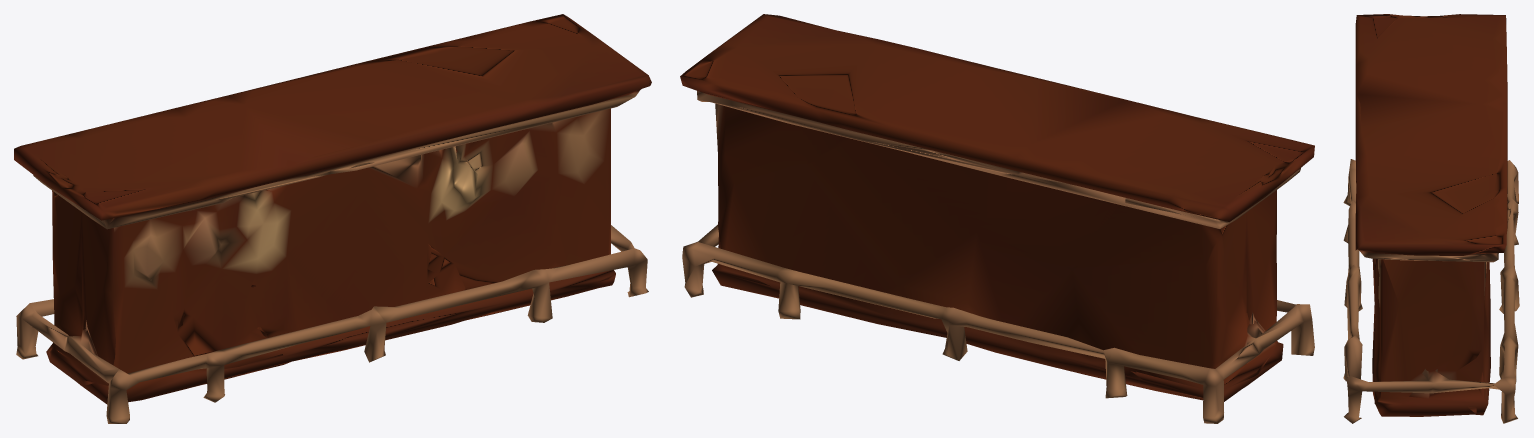
File: gen3d-bar-counter-lod0.glb
The picture shows the model from 3 angles, left to right: view 1: azimuth 30°, elevation 25°; view 2: azimuth 150°, elevation 25°; view 3: azimuth 270°, elevation 25°; orthographic projection. The views are drawn at different scales.
Parts seen in each view (by area): view 1: part_0; view 2: part_0; view 3: part_0.
Part boxes in pixels (<box>): part_0: <box>14,14,651,423</box>; part_0: <box>680,14,1314,423</box>; part_0: <box>1343,14,1519,423</box>.
Bounding box in the file's own units: 2.7 × 0.9998 × 0.8694.
